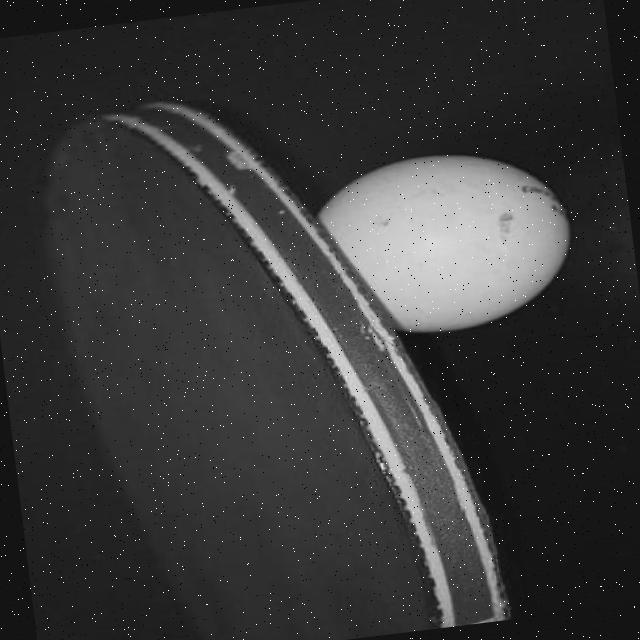ping-pong-ball: (290, 136, 586, 350)
